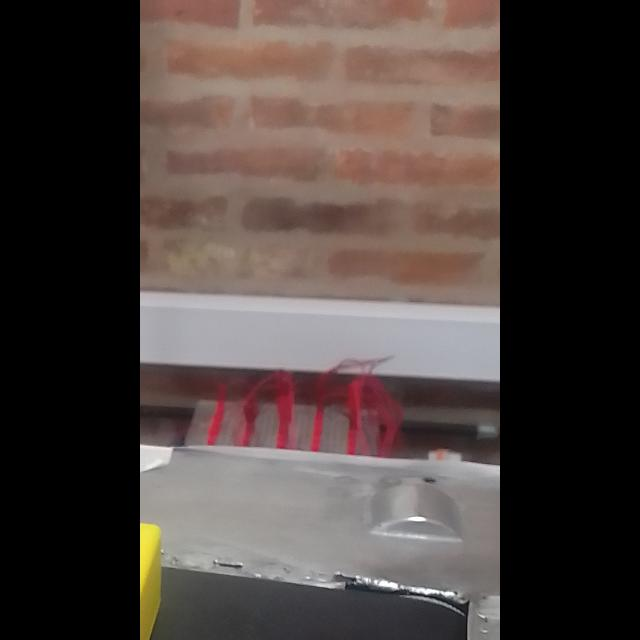yellowBox: (140, 504, 176, 640)
